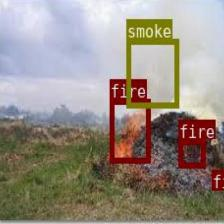fire: (109, 98, 150, 162), (178, 138, 204, 167), (211, 170, 224, 190)
smoke: (126, 38, 178, 107)
